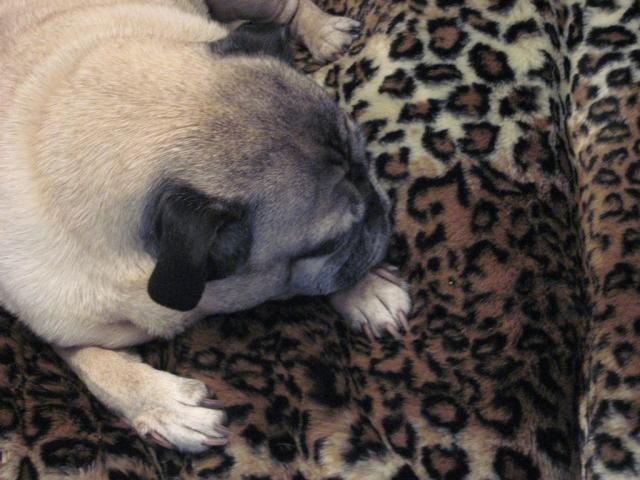Dog: (0, 0, 415, 455)
